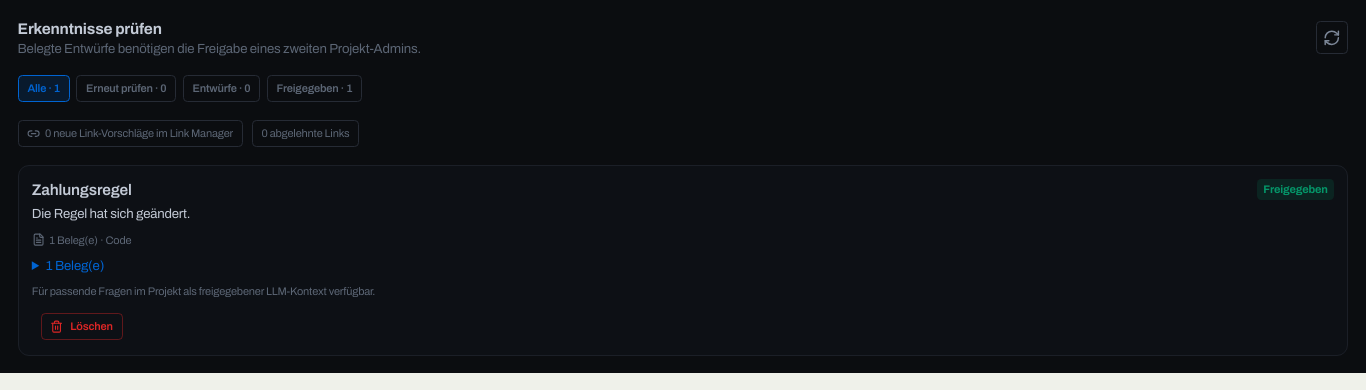
Test: deletes a verified insight after confirmation and removes it from the list
Step 1. Click the button "Löschen" → (82, 327), box [41,313,123,340]
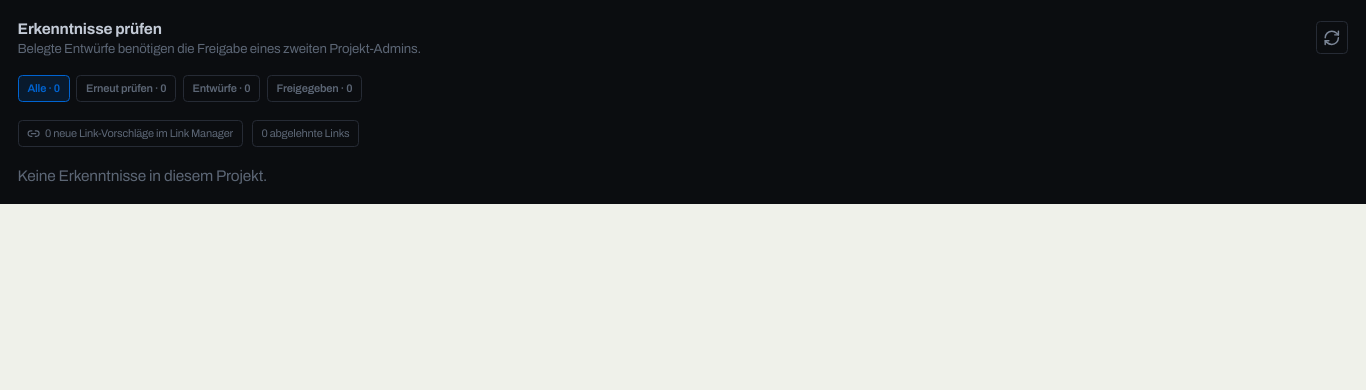
Expected: the heading "Zahlungsregel" is gone
Expected: the text "Keine Erkenntnisse in diesem Projekt." is shown, [18,166,267,184]
